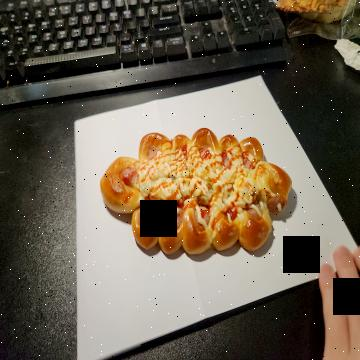pizza_bread: (102, 129, 294, 258)
